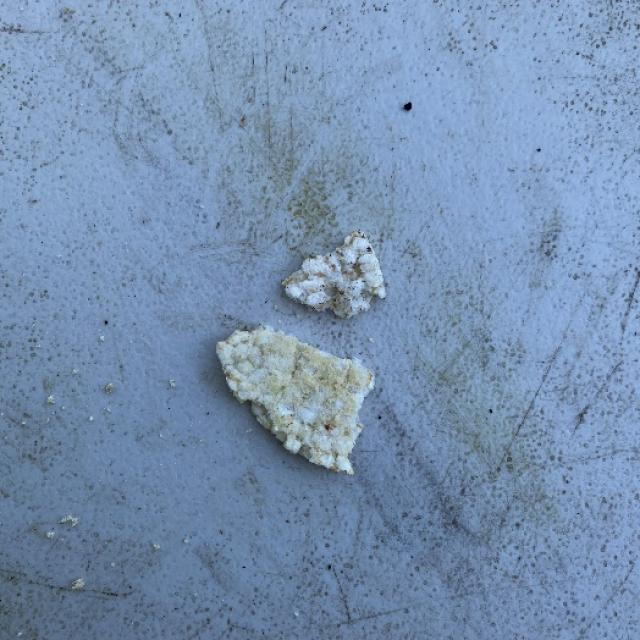wet: (216, 229, 403, 478)
